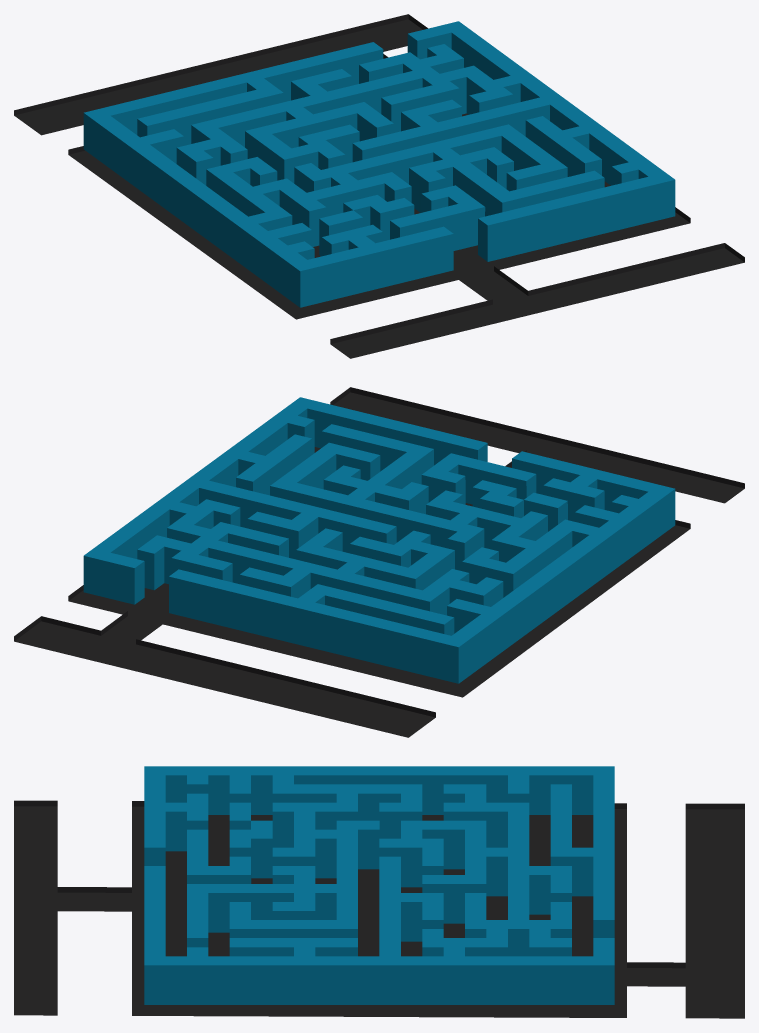
File: Лабиринт 2.fbx
The picture shows the model from 3 angles, top to bottom: view 1: azimuth 30°, elevation 25°; view 2: azimuth 150°, elevation 25°; view 3: azimuth 270°, elevation 25°; orthographic projection. The views are drawn at different scales.
Visible parts, largest first — view 1: Plane, Plane.001; view 2: Plane, Plane.001; view 3: Plane, Plane.001.
Boxes of the visible parts, box(x1,y1,x2,y2) form: Plane: box(83, 21, 675, 307); Plane.001: box(14, 14, 744, 358); Plane: box(83, 397, 675, 683); Plane.001: box(14, 387, 744, 737); Plane: box(144, 766, 614, 1004); Plane.001: box(14, 800, 744, 1018).
Size of the model in its own units: 3122 by 336 by 4612.
